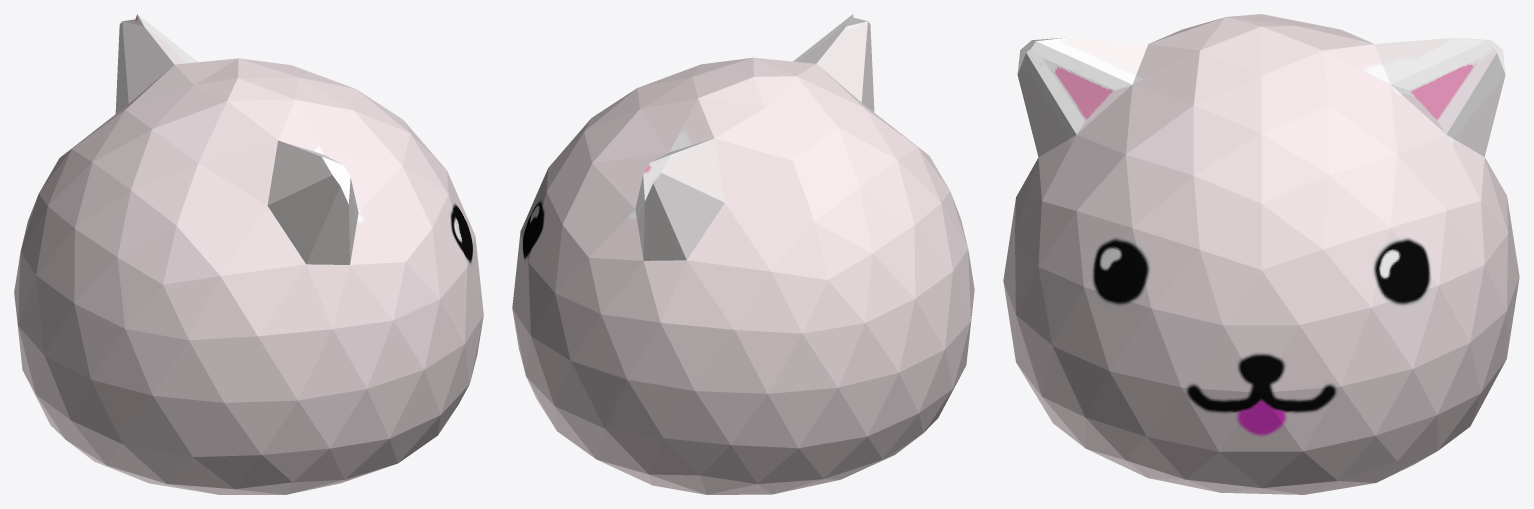
Rendered from Perrito.fbx.
3 views of the same model, side by side, from view 1: azimuth 30°, elevation 25°; view 2: azimuth 150°, elevation 25°; view 3: azimuth 270°, elevation 25° (orthographic). The views are drawn at different scales.
Visible parts, largest first — view 1: Icosphere; view 2: Icosphere; view 3: Icosphere.
Boxes of the visible parts, x1=… form: Icosphere: x1=14, y1=14, x2=483, y2=494; Icosphere: x1=512, y1=14, x2=974, y2=494; Icosphere: x1=1003, y1=14, x2=1519, y2=494.
Bounding box in the file's own units: 200 × 170 × 200.
1 material, 1 textured.
